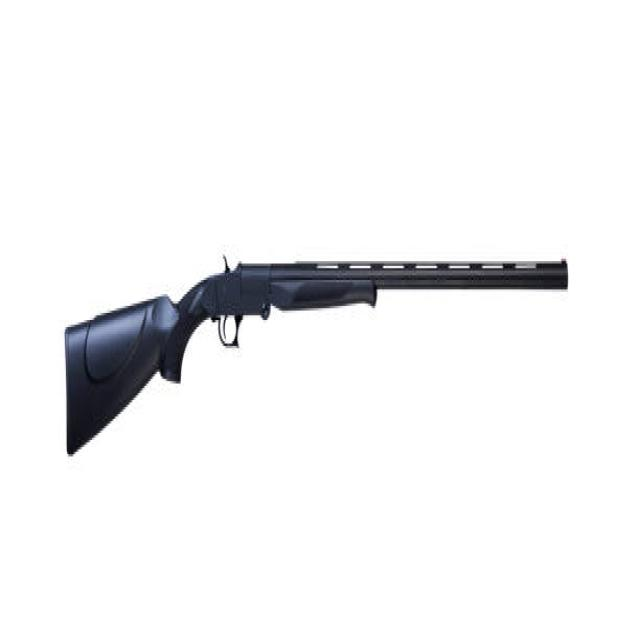rifle: (58, 234, 571, 476)
